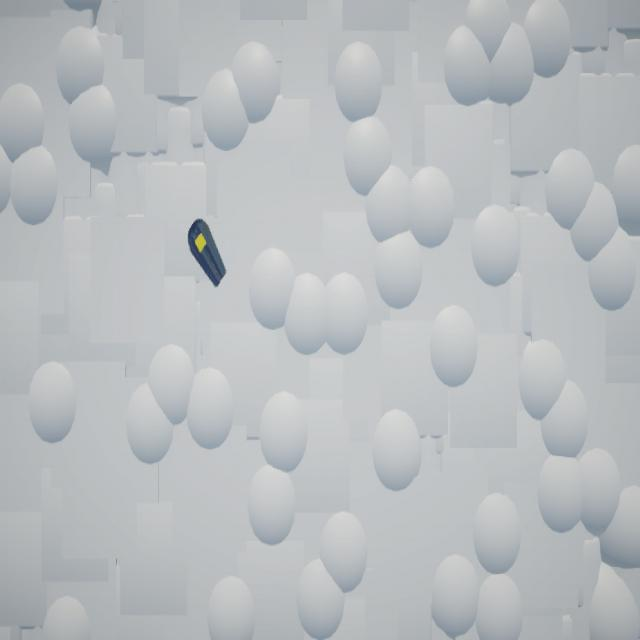handle_folk: (188, 219, 228, 290)
